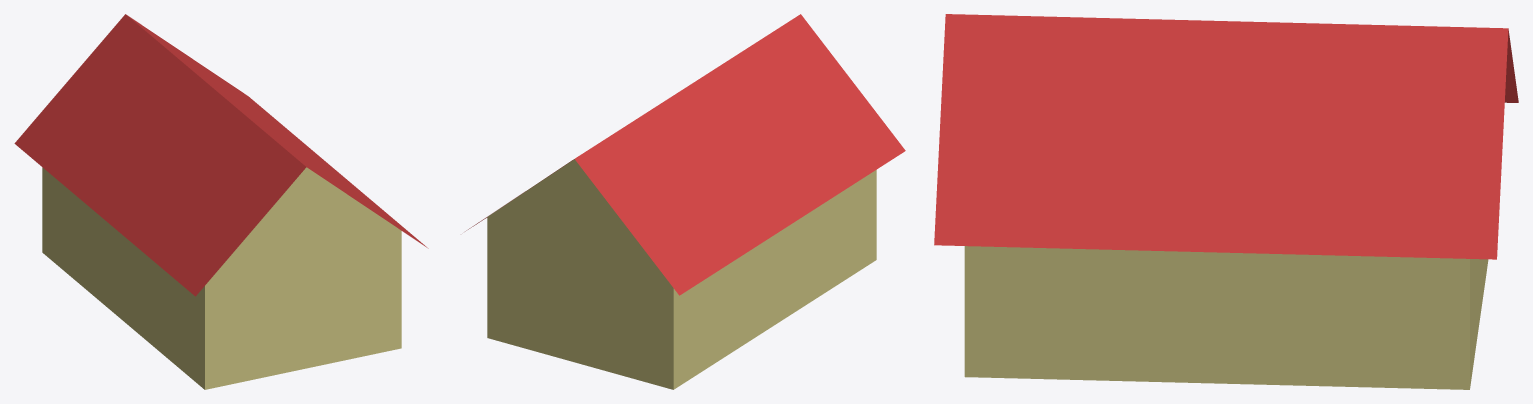
The picture shows the model from 3 angles, left to right: view 1: azimuth 30°, elevation 25°; view 2: azimuth 150°, elevation 25°; view 3: azimuth 270°, elevation 25°; orthographic projection. The views are drawn at different scales.
Size of the model in its own units: 20.63 by 30.36 by 16.84.
